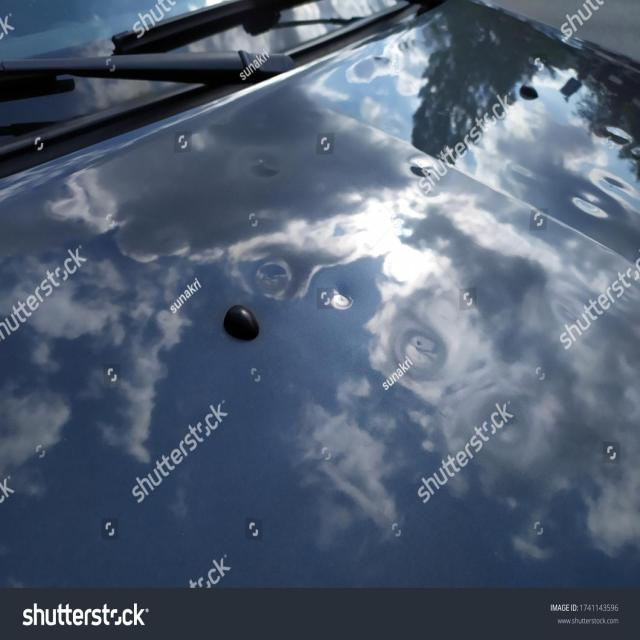dent: (385, 314, 458, 386), (245, 250, 299, 303)
